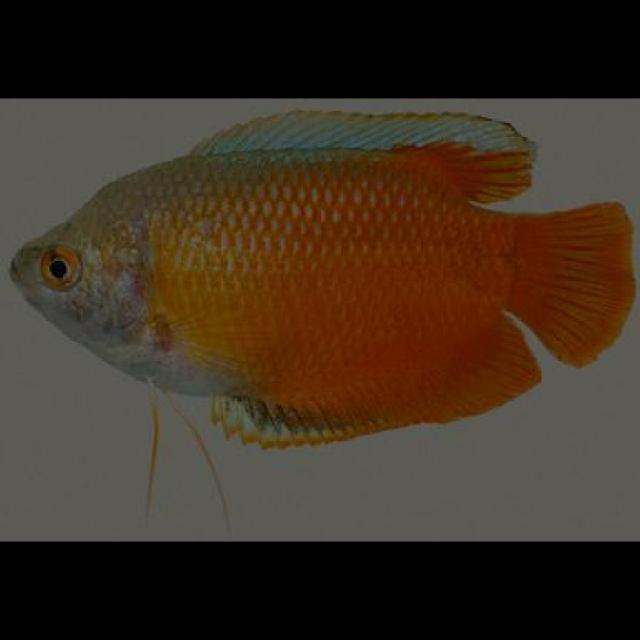Gourami: (1, 104, 638, 458)
